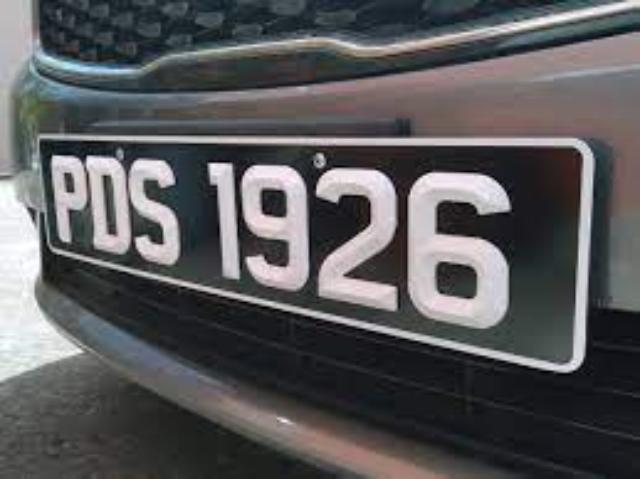License_Plate: (15, 120, 599, 401)
